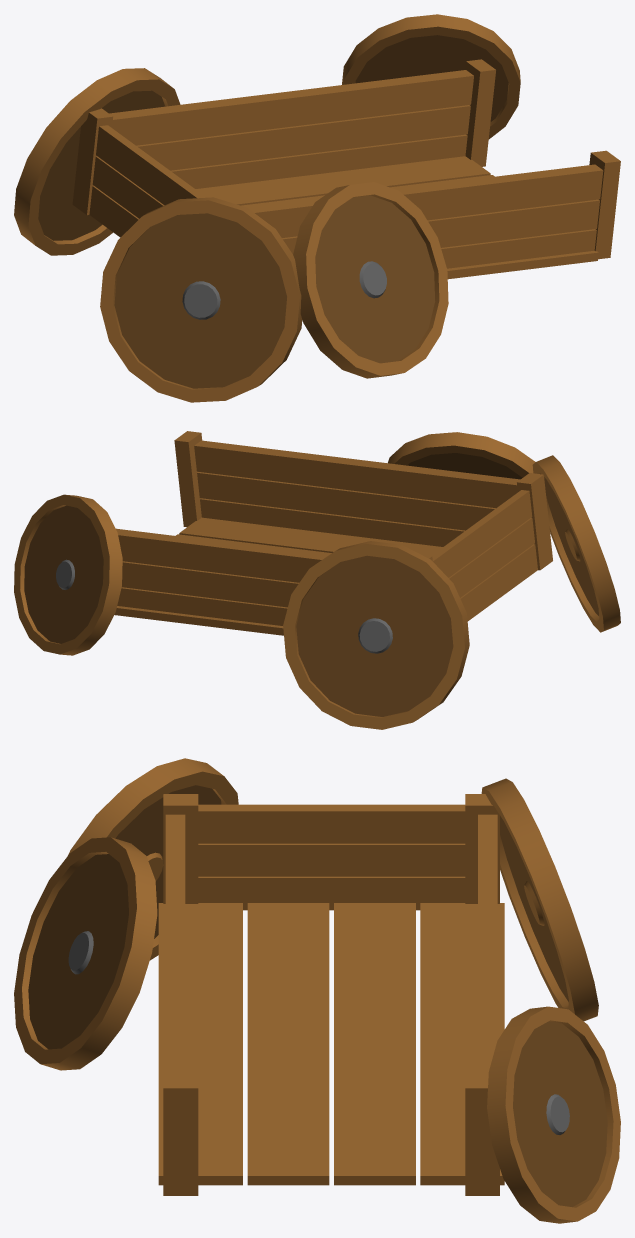
Rendered from Proxy_Kart_A01.fbx.
3 renders of one model, top to bottom at view 1: azimuth 30°, elevation 25°; view 2: azimuth 150°, elevation 25°; view 3: azimuth 270°, elevation 25°, orthographic. The views are drawn at different scales.
Visible parts, largest first — view 1: Proxy_Kart_A01; view 2: Proxy_Kart_A01; view 3: Proxy_Kart_A01.
Boxes of the visible parts, box(x1,y1,x2,y2) form: Proxy_Kart_A01: box(14, 14, 620, 402); Proxy_Kart_A01: box(14, 431, 620, 729); Proxy_Kart_A01: box(14, 758, 620, 1223).
Size of the model in its own units: 1004 by 801 by 333.
